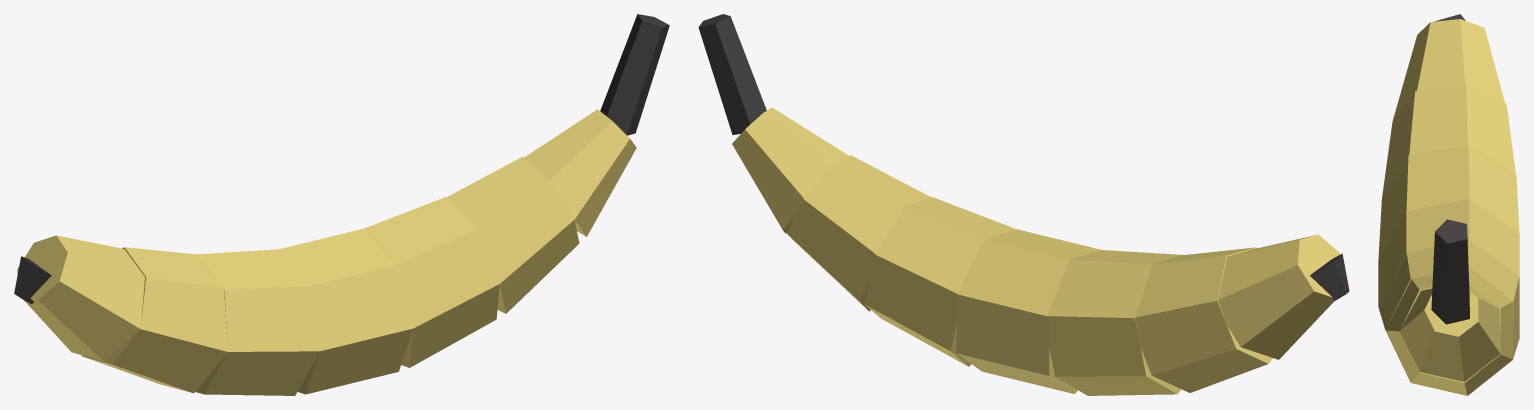
File: Banana.fbx
3 views of the same model, side by side, from view 1: azimuth 30°, elevation 25°; view 2: azimuth 150°, elevation 25°; view 3: azimuth 270°, elevation 25° (orthographic).
Visible parts, largest first — view 1: Banana; view 2: Banana; view 3: Banana.
Part boxes in pixels (left/top/right/bottom): Banana: left=14, top=14, right=669, bottom=395; Banana: left=698, top=14, right=1349, bottom=395; Banana: left=1378, top=14, right=1519, bottom=395.
Bounding box in the file's own units: 20.85 × 8.72 × 3.99.
